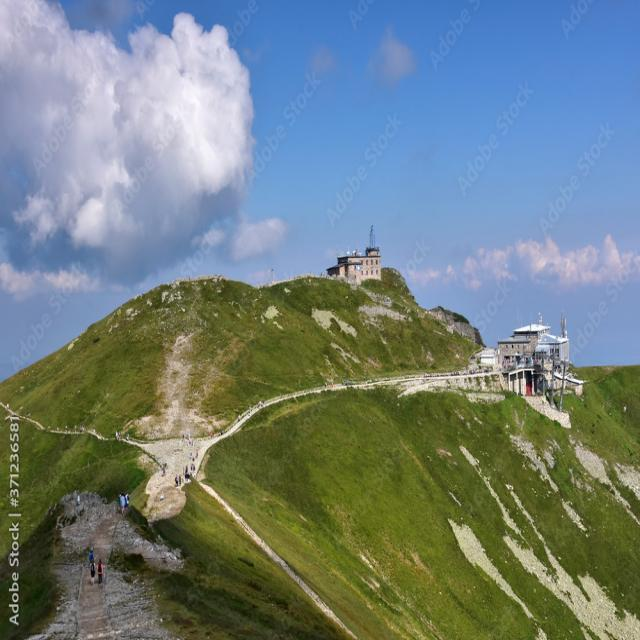Kasprowy Wierch: (220, 146, 482, 394)
